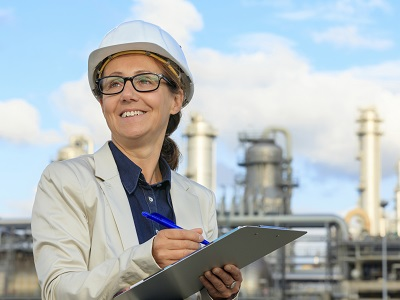epi: (35, 18, 242, 300)
